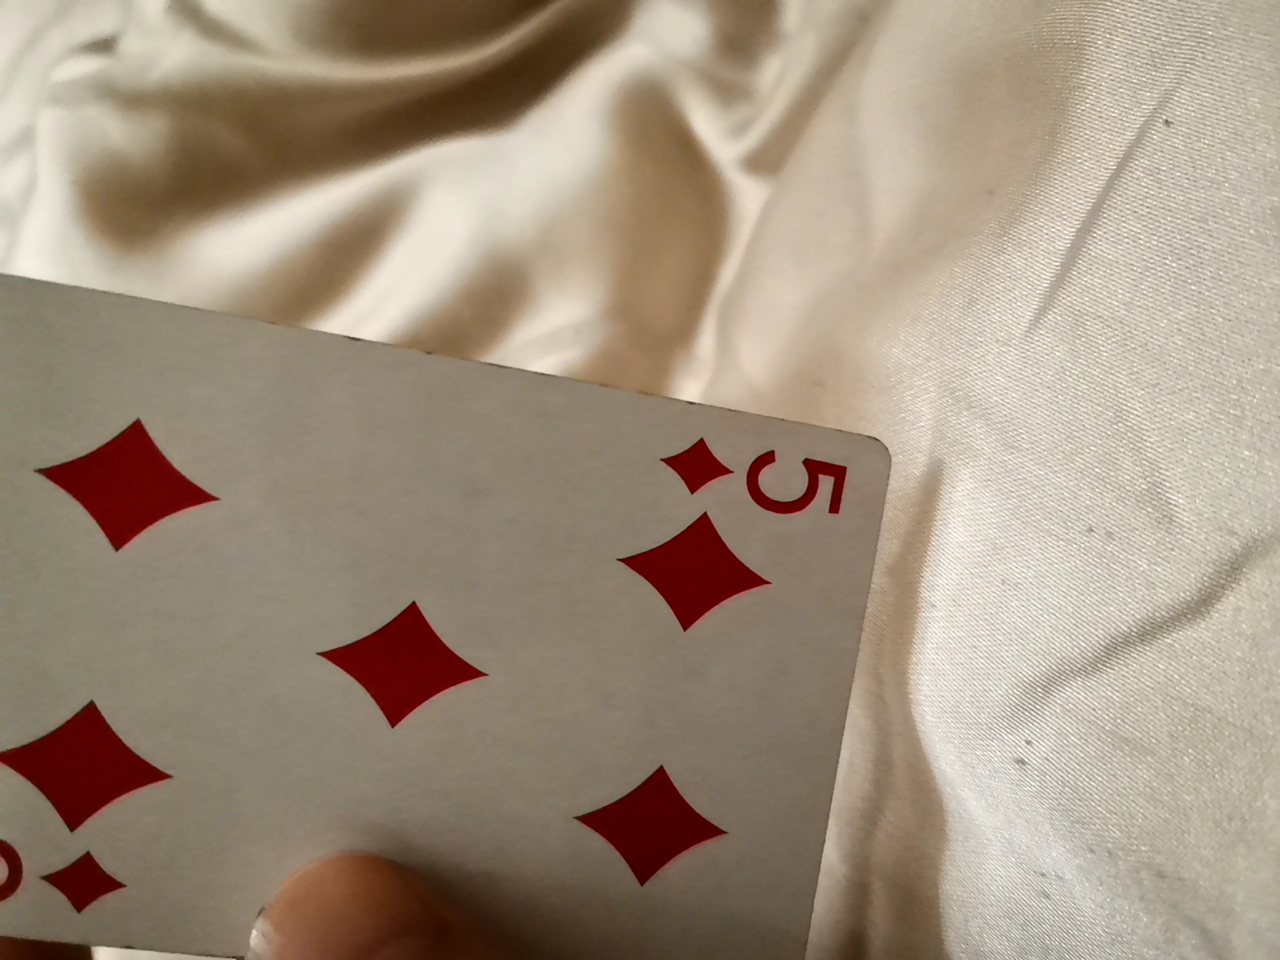fk 5: (1, 295, 896, 951)
